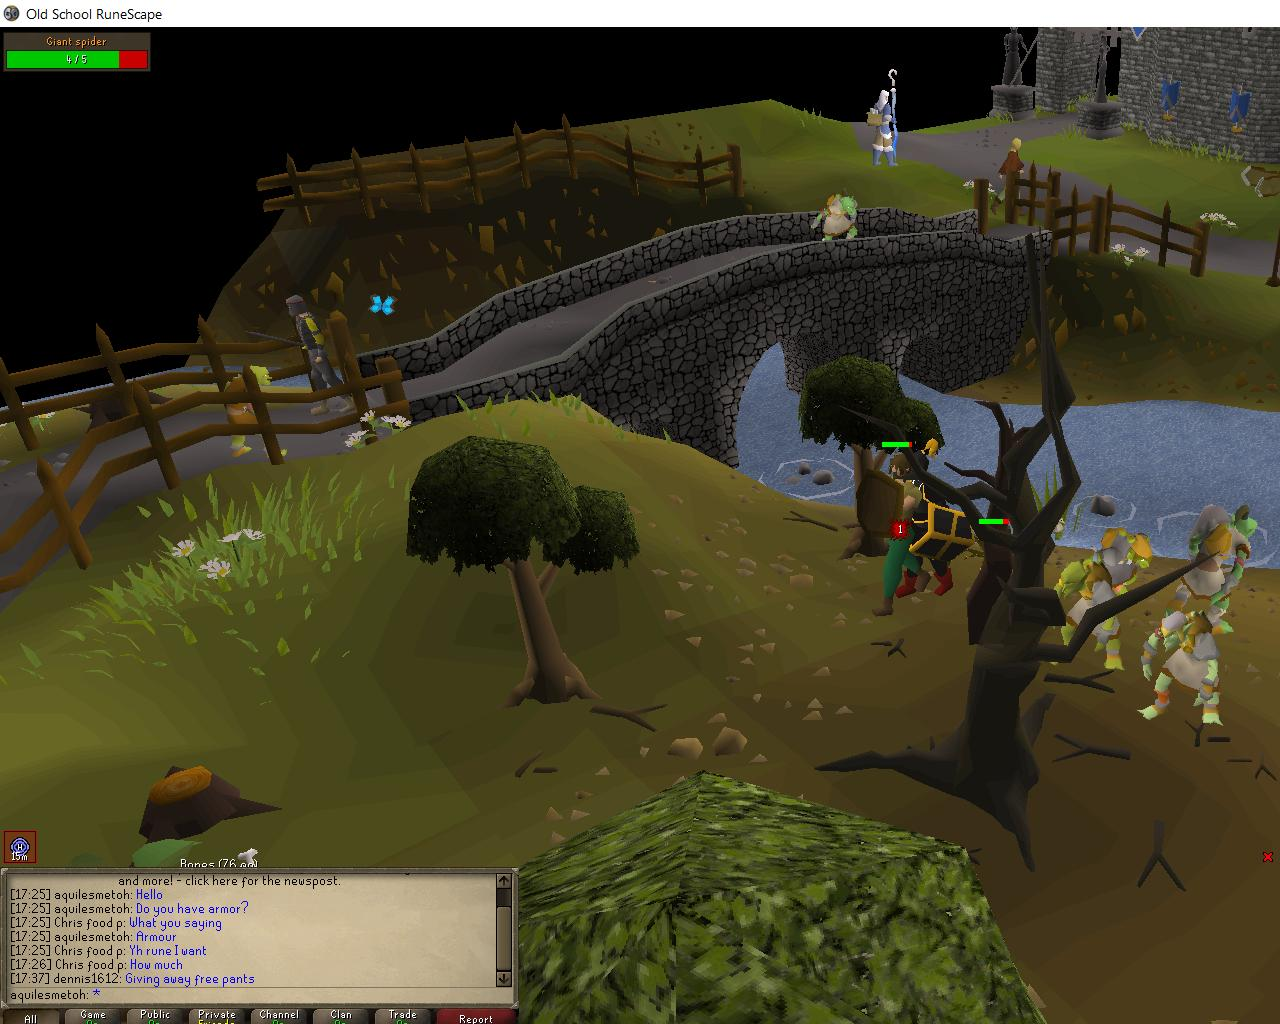Goblin: (1165, 507, 1265, 637), (1140, 610, 1236, 736), (210, 360, 304, 468), (1047, 557, 1126, 682), (807, 189, 863, 250)
